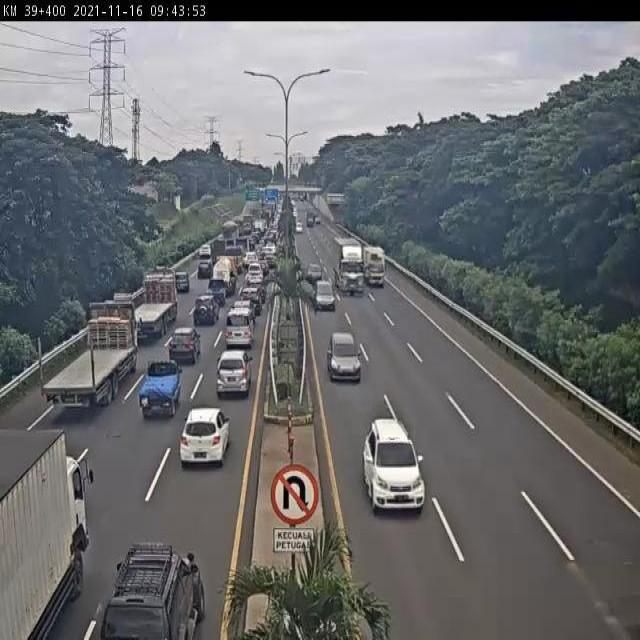car: (98, 544, 205, 640), (364, 418, 426, 514), (177, 410, 230, 478), (136, 363, 181, 421), (215, 352, 254, 405), (328, 332, 364, 385), (168, 325, 201, 368), (225, 308, 254, 349), (189, 296, 216, 332), (312, 280, 337, 312), (206, 279, 226, 305), (173, 271, 191, 297), (306, 261, 322, 284)
small truck: (362, 244, 387, 287)
truck-l-: (36, 303, 143, 416), (125, 271, 175, 348), (333, 236, 365, 296)
